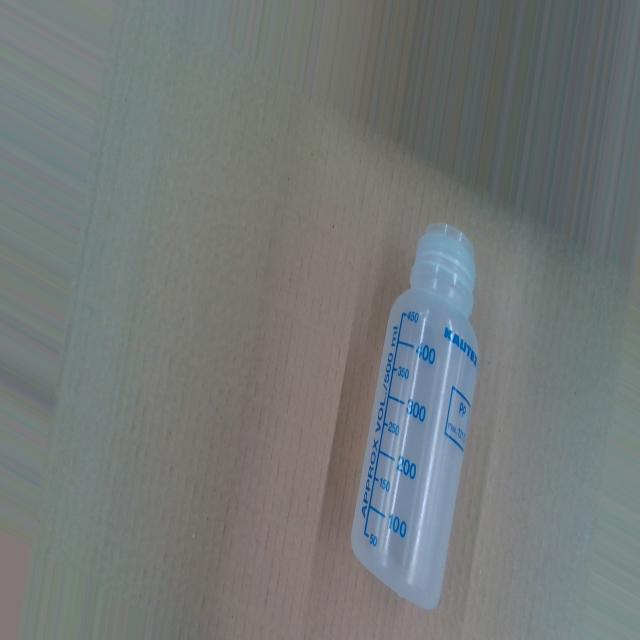bottle: (348, 214, 486, 619)
